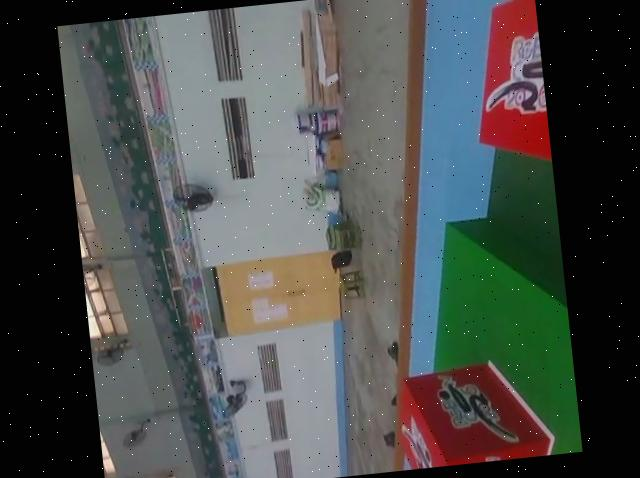R1: (387, 341, 555, 471), (460, 0, 552, 174)
